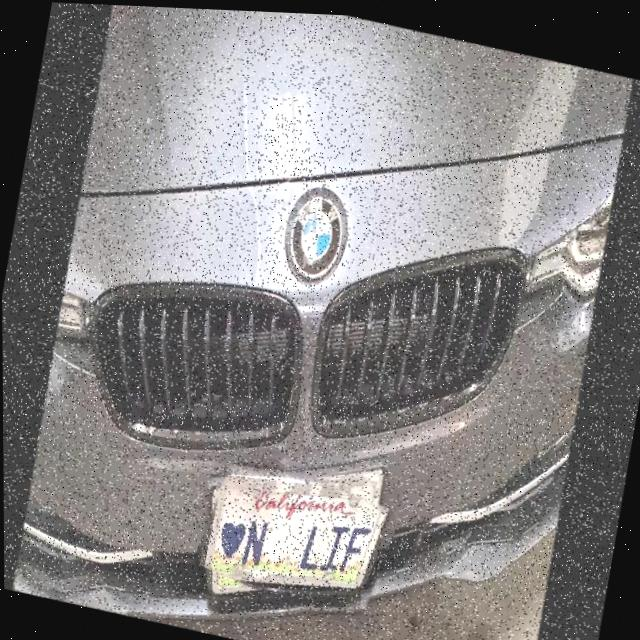LicensePlate: (191, 444, 400, 626)
